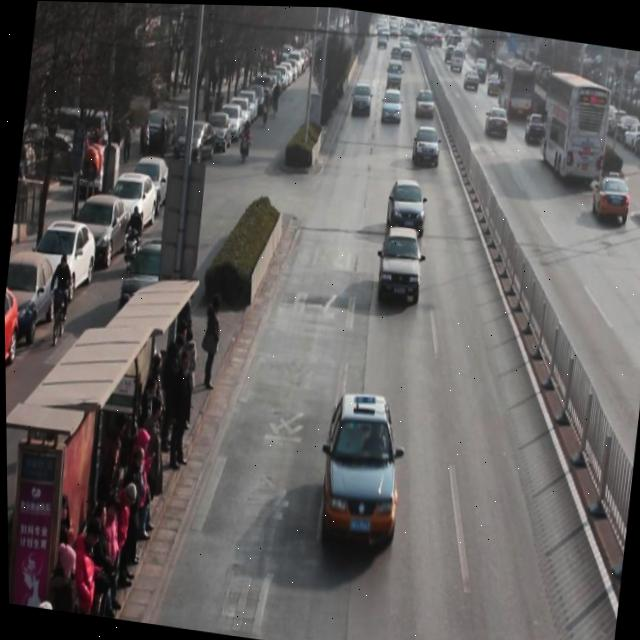car: (312, 389, 408, 552), (373, 222, 426, 306), (383, 176, 428, 239), (589, 171, 631, 223), (409, 123, 442, 168), (378, 86, 403, 125), (522, 108, 549, 144), (483, 104, 510, 138), (349, 79, 372, 117), (412, 84, 437, 118)
van: (535, 64, 611, 179), (493, 55, 537, 117)
